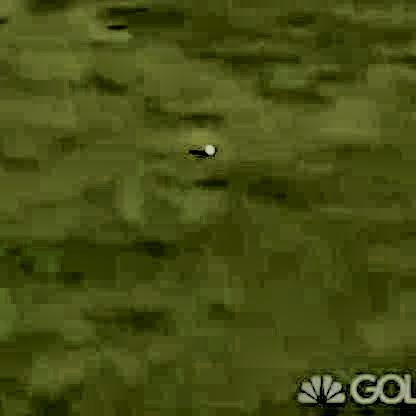golfball: (201, 138, 212, 151)
